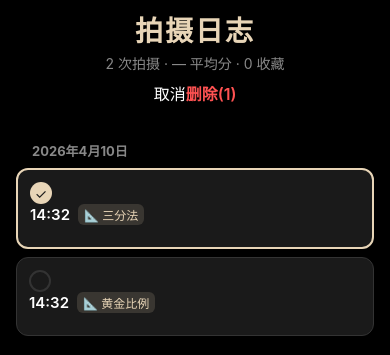
Test: ShootLogScreen › tap toggles entry selection in select mode
Expected: the text "删除(1)" is shown, [186, 81, 236, 105]
Click the element showing "14:32 📐 黄金比例".
click(195, 296)  # box [16, 257, 374, 336]
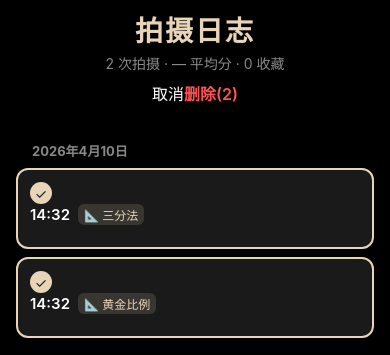
Result: the text "删除(2)" is shown at [184, 81, 238, 105]
Click the element showing "✓ 14:32 📐 三分法".
click(195, 208)  # box [16, 168, 374, 249]
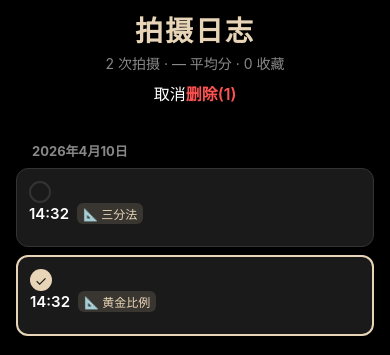
Result: the text "删除(1)" is shown at [186, 81, 236, 105]
